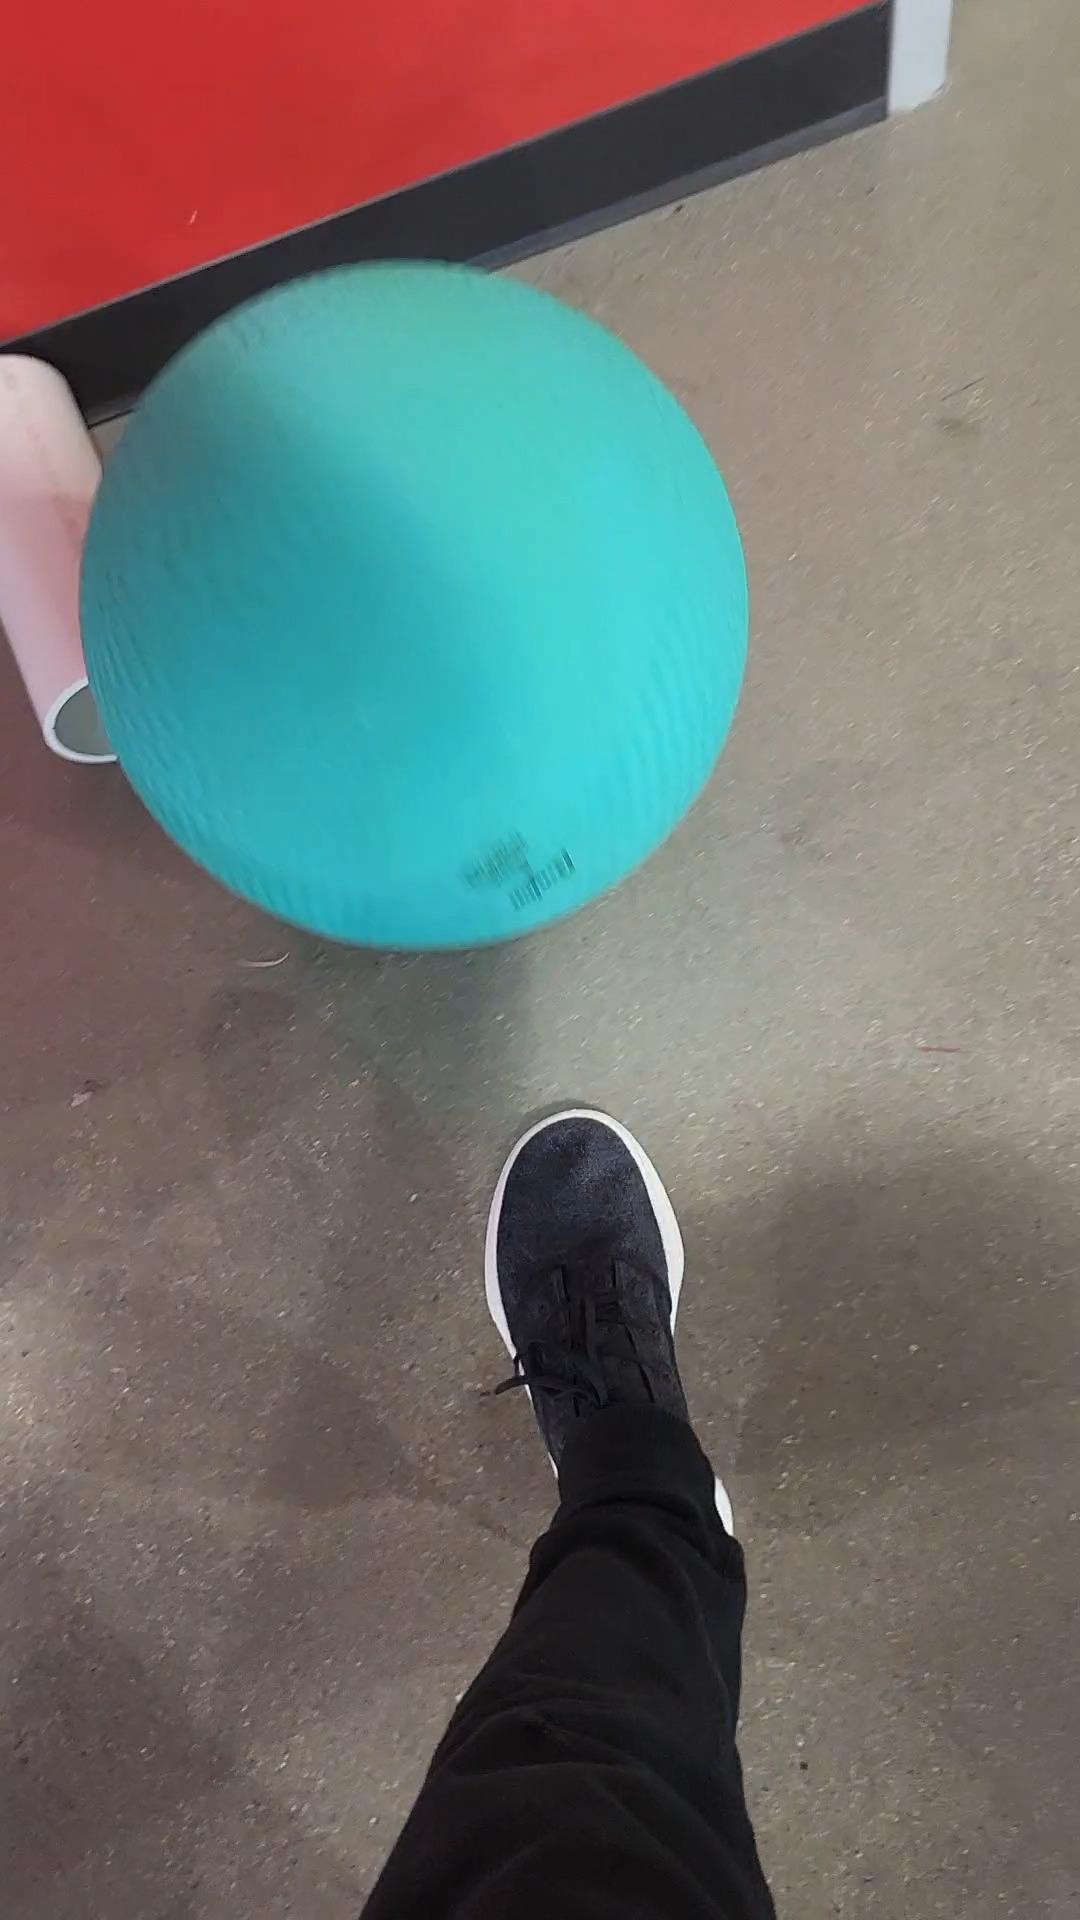algae: (80, 270, 746, 928)
